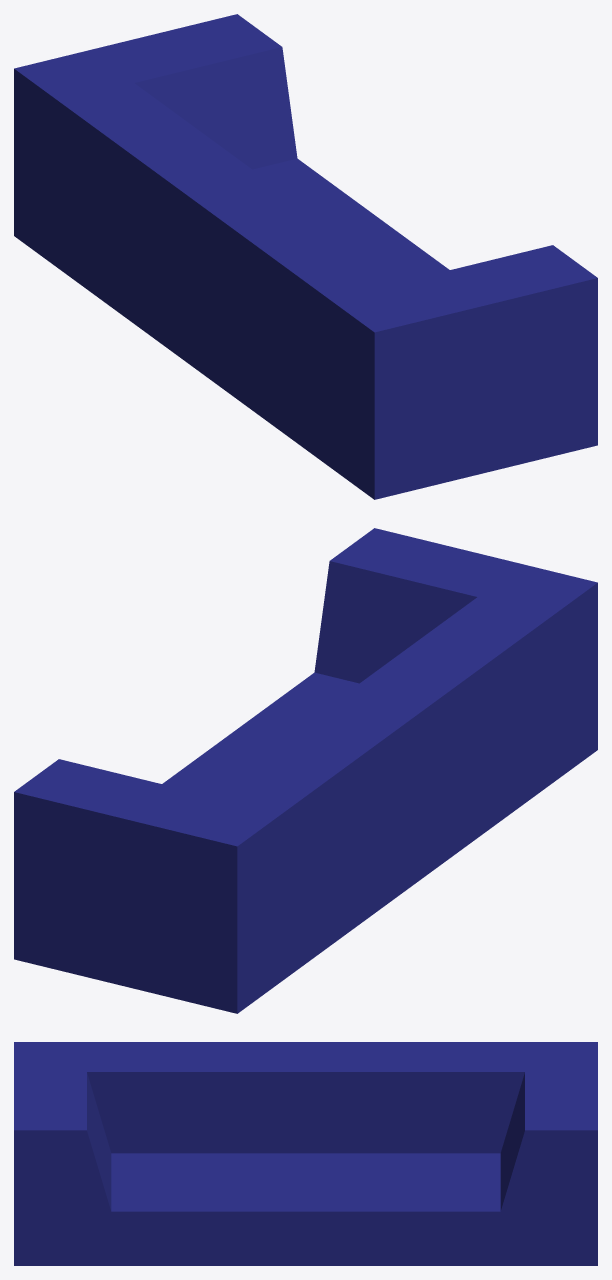
The model's file is SofaTemplo.fbx.
3 views of the same model, one above another, from view 1: azimuth 30°, elevation 25°; view 2: azimuth 150°, elevation 25°; view 3: azimuth 270°, elevation 25° (orthographic). The views are drawn at different scales.
Visible parts, largest first — view 1: Sillon; view 2: Sillon; view 3: Sillon.
Part boxes in pixels (x1,y1,x2,y2): Sillon: [14, 14, 597, 499]; Sillon: [14, 528, 597, 1013]; Sillon: [14, 1042, 597, 1265].
Bounding box in the file's own units: 314 × 225 × 877.
